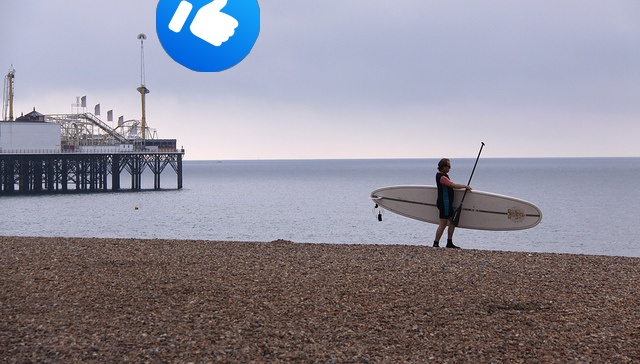like: (156, 0, 260, 72)
